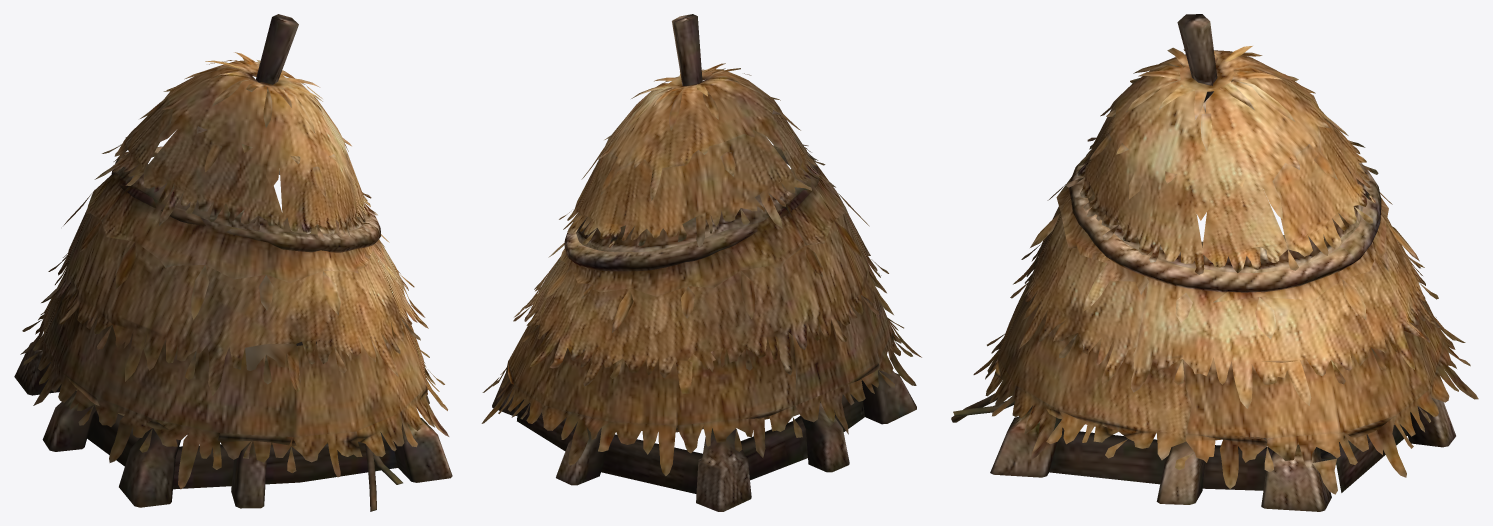
Rendered from act1-a08-4-hay-rick.glb.
3 views of the same model, side by side, from view 1: azimuth 30°, elevation 25°; view 2: azimuth 150°, elevation 25°; view 3: azimuth 270°, elevation 25° (orthographic). The views are drawn at different scales.
Visible parts, largest first — view 1: act1-a08-4-hay-rick; view 2: act1-a08-4-hay-rick; view 3: act1-a08-4-hay-rick.
Boxes of the visible parts, bbox=[...] form: act1-a08-4-hay-rick: bbox=[14, 14, 452, 511]; act1-a08-4-hay-rick: bbox=[481, 14, 921, 511]; act1-a08-4-hay-rick: bbox=[951, 14, 1478, 511].
Size of the model in its own units: 2.99 by 3.2 by 3.64.
1 material, 1 textured.
